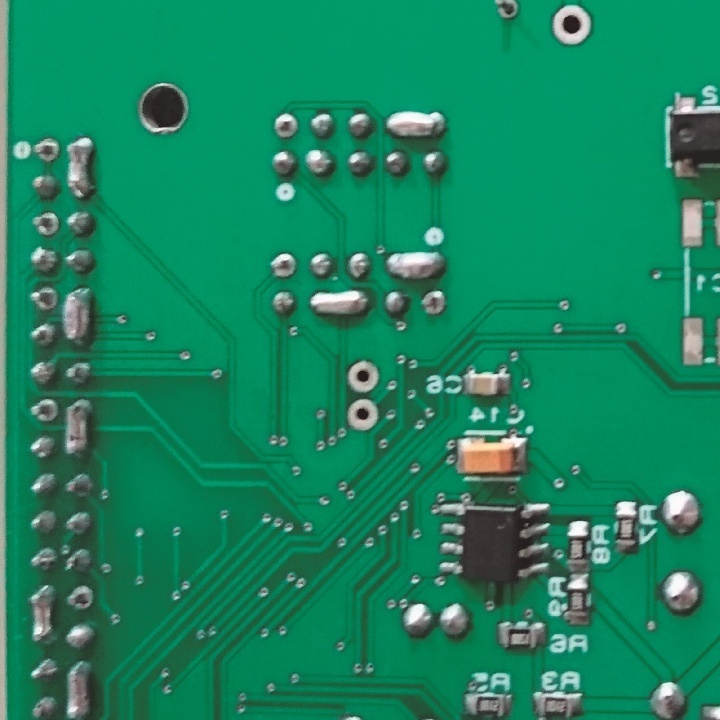F: (548, 5, 594, 48), (344, 395, 383, 429), (346, 359, 380, 395), (267, 251, 298, 280), (65, 584, 95, 613), (31, 136, 59, 167), (419, 285, 447, 316), (30, 209, 59, 238), (28, 397, 56, 425), (28, 286, 58, 312), (273, 111, 297, 142), (493, 1, 519, 24)
P: (385, 246, 450, 283), (381, 108, 451, 142), (64, 136, 98, 200), (306, 289, 375, 318), (60, 286, 93, 346), (28, 584, 56, 643), (65, 400, 91, 463), (67, 662, 93, 720)
